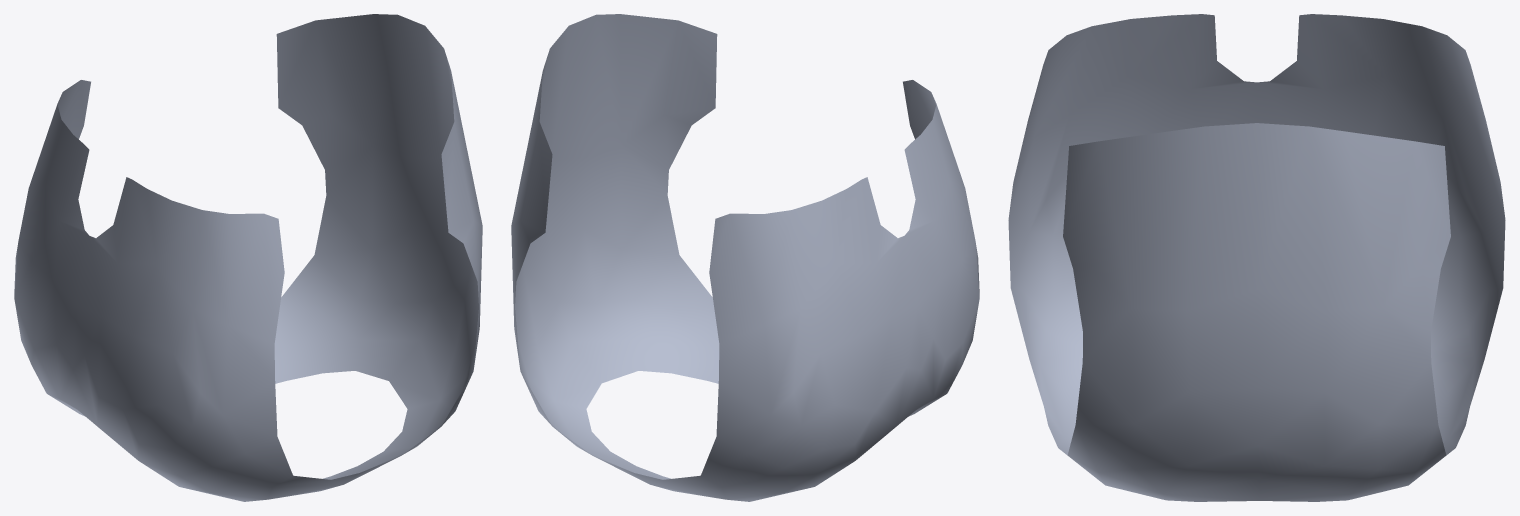
File: chest.dae
3 renders of one model, left to right at view 1: azimuth 30°, elevation 25°; view 2: azimuth 150°, elevation 25°; view 3: azimuth 270°, elevation 25°, orthographic. The views are drawn at different scales.
Parts seen in each view (by area): view 1: torso_mesh; view 2: torso_mesh; view 3: torso_mesh.
Boxes of the visible parts, <box> form: torso_mesh: <box>14,14,482,501</box>; torso_mesh: <box>511,14,979,501</box>; torso_mesh: <box>1008,14,1505,501</box>.
Bounding box in the file's own units: 0.1868 × 0.1898 × 0.1827.
